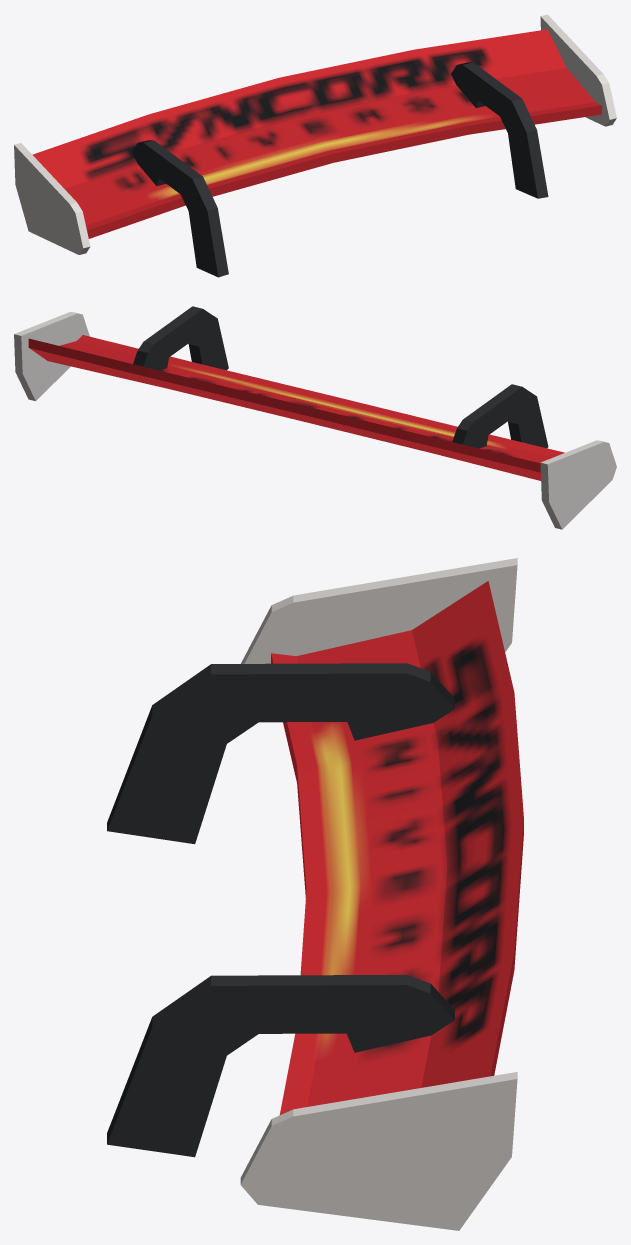
Rendered from SM_Veh_Rally_01_Spoiler_03.fbx.
3 renders of one model, top to bottom at view 1: azimuth 30°, elevation 25°; view 2: azimuth 150°, elevation 25°; view 3: azimuth 270°, elevation 25°, orthographic. The views are drawn at different scales.
Parts seen in each view (by area): view 1: SM_Veh_Rally_01_Spoiler_03; view 2: SM_Veh_Rally_01_Spoiler_03; view 3: SM_Veh_Rally_01_Spoiler_03.
Boxes of the visible parts, x1,y1,x2,y2 form: SM_Veh_Rally_01_Spoiler_03: (14,14,616,277); SM_Veh_Rally_01_Spoiler_03: (14,306,616,529); SM_Veh_Rally_01_Spoiler_03: (107,558,523,1230).
Bounding box in the file's own units: 144 × 23.19 × 48.81.
